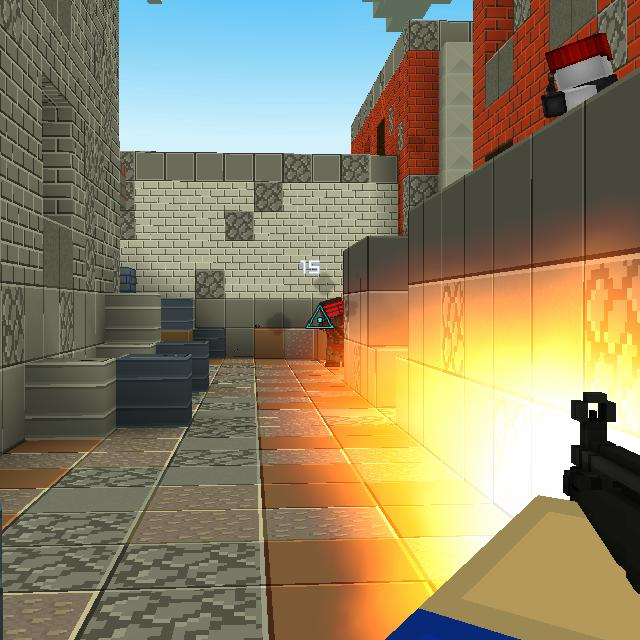enemy: (538, 27, 628, 118), (316, 295, 346, 368)
